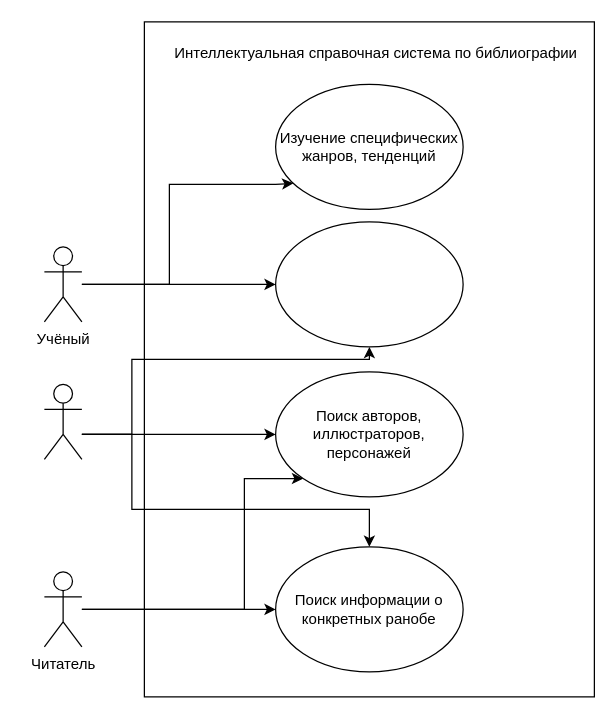
The diagram is 616 pixels wide and 719 high, and some of its shapes have lost their labels. The box of each missing label's shape, as (x1, y1, x2, y2) in pixels:
Изучение культурных аспетов, жаргона, терминологии: (274, 221, 463, 347)
Переводчик: (43, 383, 82, 459)
